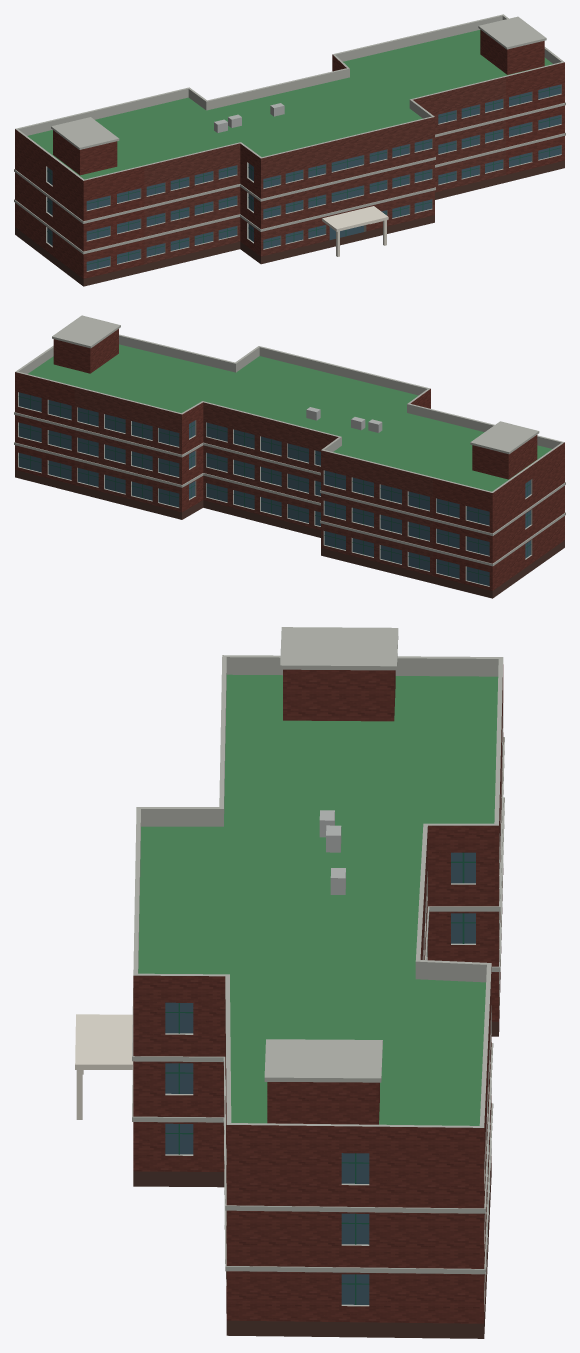
3 renders of one model, top to bottom at view 1: azimuth 30°, elevation 25°; view 2: azimuth 150°, elevation 25°; view 3: azimuth 270°, elevation 25°, orthographic. The views are drawn at different scales.
Visible parts, largest first — view 1: rear2__wall-plaster, rear2__roof, rear2__brick, rear2__trim-concrete, rear2__glass, rear2__base-stone, rear2__frame, rear2__canopy-concrete, rear2__equipment; view 2: rear2__roof, rear2__wall-plaster, rear2__brick, rear2__glass, rear2__trim-concrete, rear2__base-stone, rear2__frame, rear2__equipment; view 3: rear2__roof, rear2__brick, rear2__trim-concrete, rear2__glass, rear2__base-stone, rear2__canopy-concrete, rear2__wall-plaster, rear2__equipment, rear2__frame.
Boxes of the visible parts, x1,y1,x2,y2 form: rear2__wall-plaster: (144, 77, 505, 264); rear2__roof: (27, 30, 552, 179); rear2__brick: (15, 30, 564, 278); rear2__trim-concrete: (14, 14, 565, 271); rear2__glass: (47, 84, 561, 270); rear2__base-stone: (15, 160, 564, 286); rear2__frame: (47, 87, 561, 268); rear2__canopy-concrete: (322, 206, 388, 256); rear2__equipment: (214, 103, 284, 132); rear2__roof: (28, 344, 551, 491); rear2__wall-plaster: (74, 387, 432, 575); rear2__brick: (15, 329, 564, 590); rear2__glass: (19, 392, 530, 585); rear2__trim-concrete: (14, 315, 565, 586); rear2__base-stone: (15, 470, 564, 598); rear2__frame: (18, 395, 531, 583); rear2__equipment: (306, 407, 382, 432); rear2__roof: (138, 674, 498, 1125); rear2__brick: (133, 664, 503, 1323); rear2__trim-concrete: (132, 627, 504, 1311); rear2__glass: (165, 852, 475, 1304); rear2__base-stone: (133, 868, 503, 1338); rear2__canopy-concrete: (75, 1014, 132, 1119); rear2__wall-plaster: (225, 716, 501, 1258); rear2__equipment: (319, 810, 345, 894); rear2__frame: (165, 852, 475, 1304).
Size of the model in its own units: 60.49 by 14.85 by 23.17.
9 materials, 2 textured.
